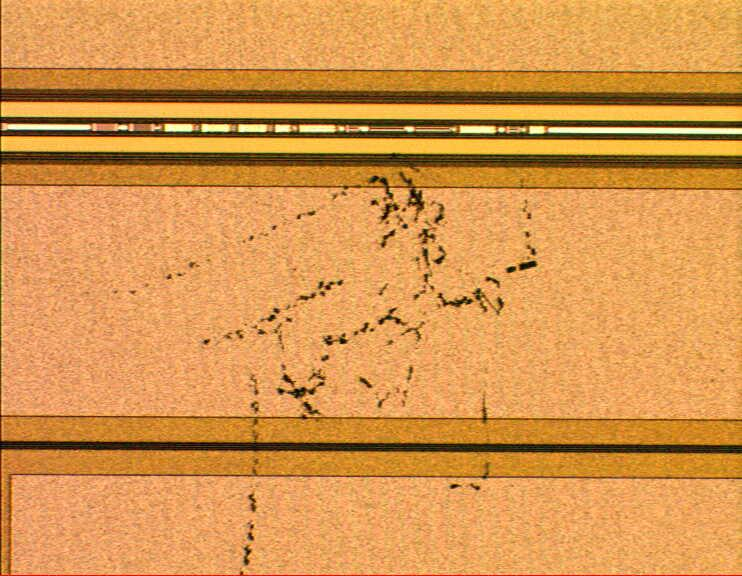SCRATCH: (105, 151, 542, 576)
